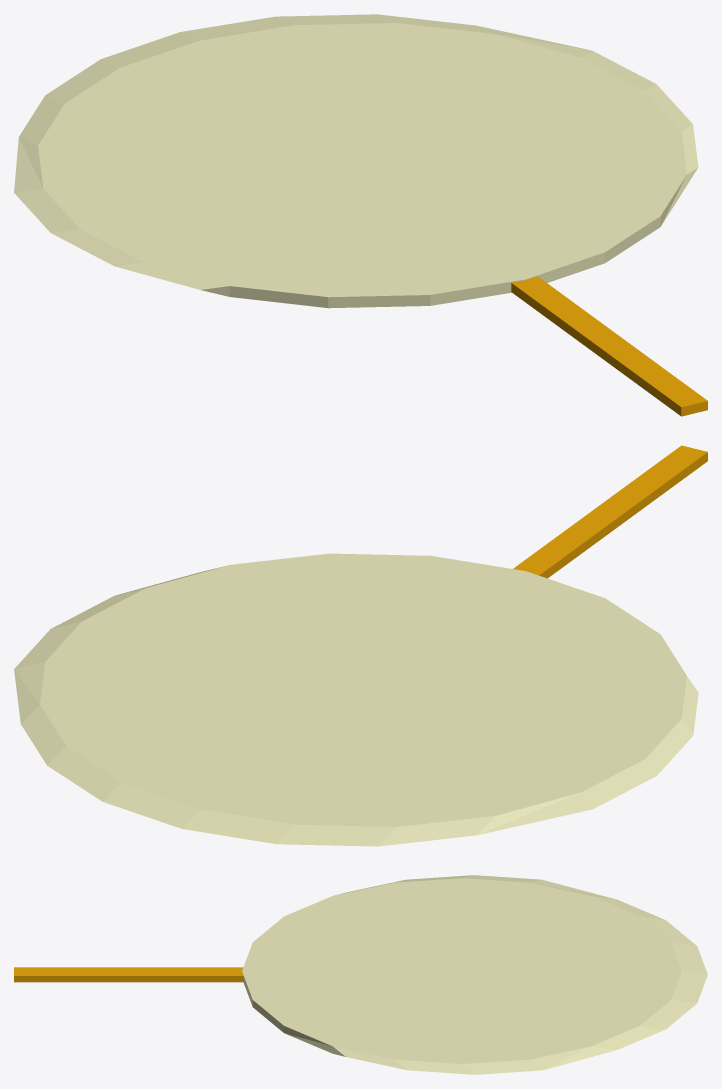
Rendered from fan.fbx.
3 renders of one model, top to bottom at view 1: azimuth 30°, elevation 25°; view 2: azimuth 150°, elevation 25°; view 3: azimuth 270°, elevation 25°, orthographic. The views are drawn at different scales.
Visible parts, largest first — view 1: pCylinder2; view 2: pCylinder2; view 3: pCylinder2.
Part boxes in pixels (left/top/right/bottom): pCylinder2: left=14, top=14, right=707, bottom=416; pCylinder2: left=14, top=445, right=707, bottom=846; pCylinder2: left=14, top=875, right=707, bottom=1074.
Size of the model in its own units: 16.46 by 0.2851 by 24.17.
